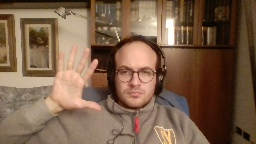Mano_aperta: (49, 42, 102, 113)
